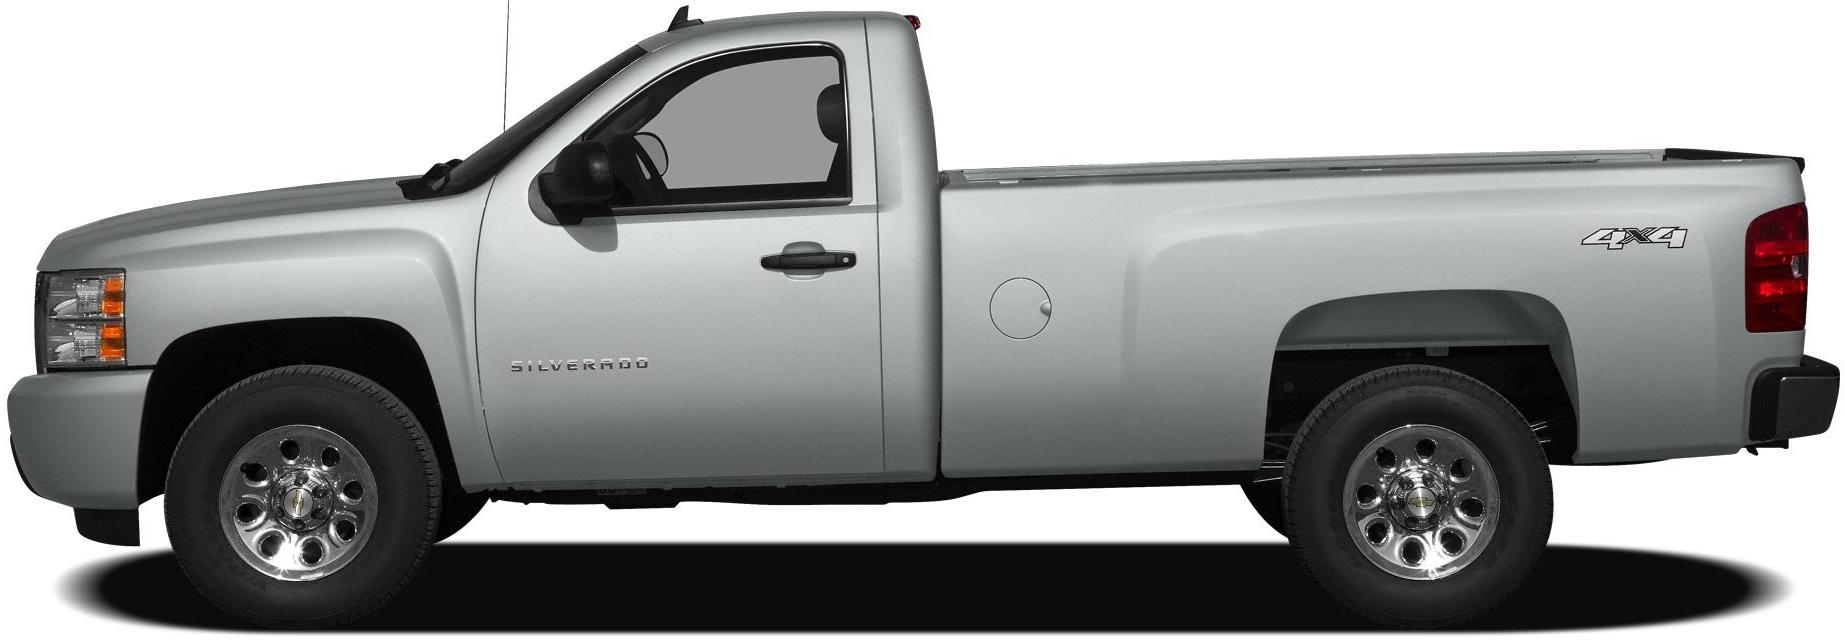backlight: (1727, 194, 1817, 327)
headlight: (31, 256, 136, 380)
side_glass: (542, 54, 859, 200)
